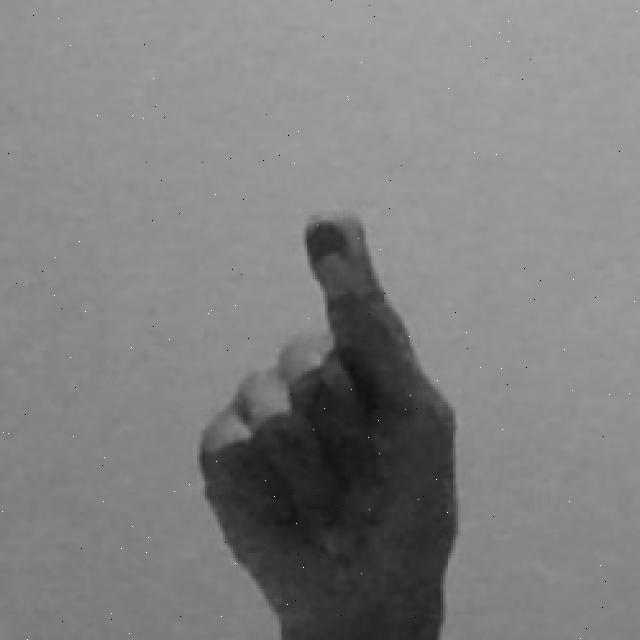T: (189, 202, 466, 640)
